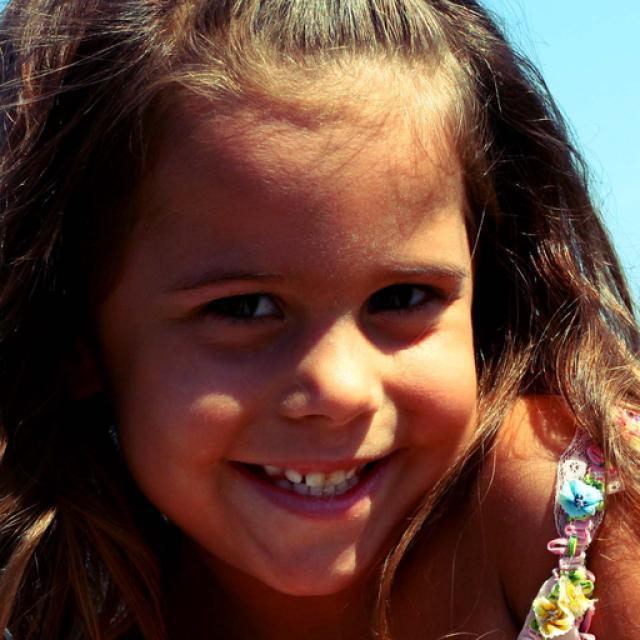0_rostro_limpio: (120, 0, 480, 595)
